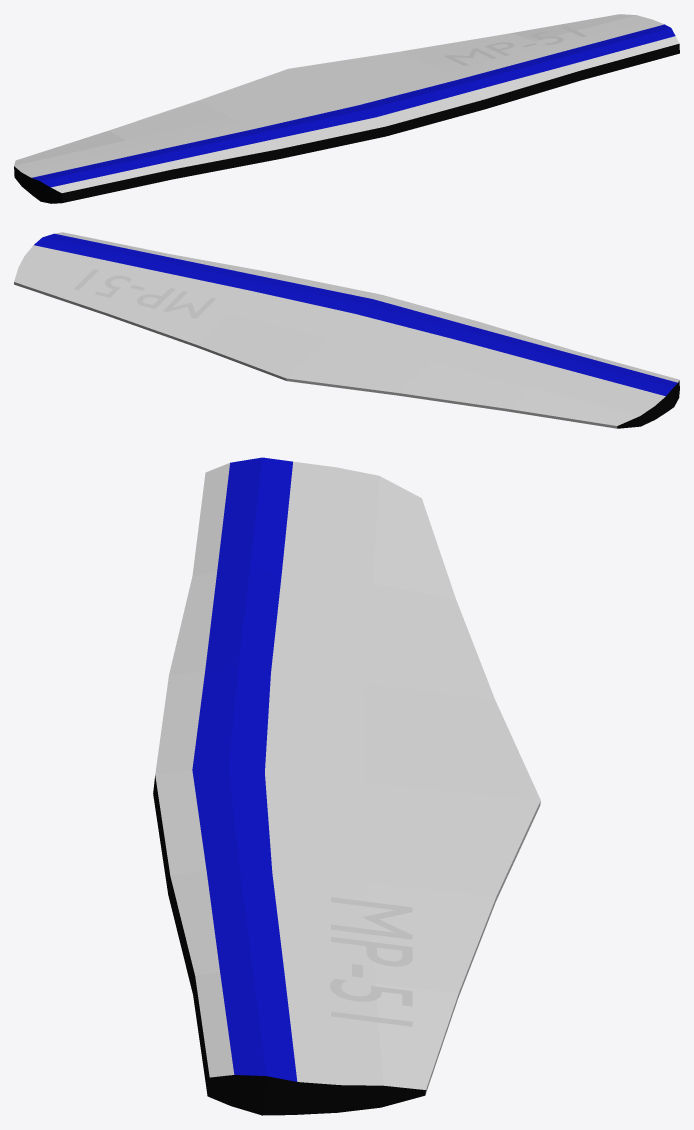
Rendered from 4misc-avion3.obj.
3 views of the same model, one above another, from view 1: azimuth 30°, elevation 25°; view 2: azimuth 150°, elevation 25°; view 3: azimuth 270°, elevation 25° (orthographic). The views are drawn at different scales.
Visible parts, largest first — view 1: Aile, Text; view 2: Aile, Text; view 3: Aile, Text.
Part boxes in pixels (bbox=[...]): Aile: bbox=[14, 14, 679, 203]; Text: bbox=[444, 26, 586, 65]; Aile: bbox=[14, 232, 679, 428]; Text: bbox=[74, 269, 215, 318]; Aile: bbox=[153, 457, 540, 1115]; Text: bbox=[330, 897, 412, 1026].
Size of the model in its own units: 12.08 by 0.3984 by 3.21.
